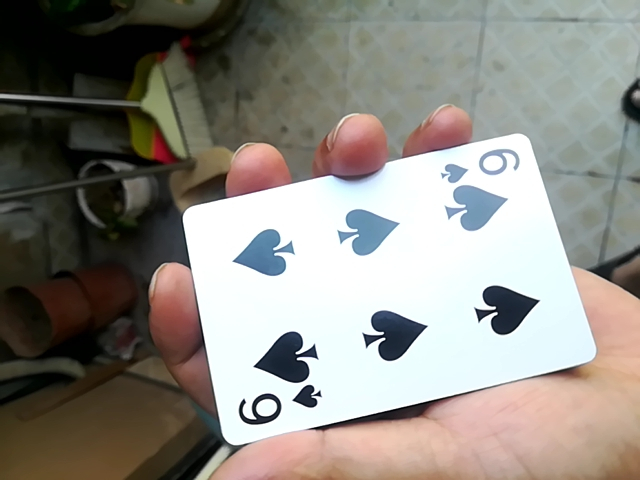ht 6: (165, 141, 604, 454)
